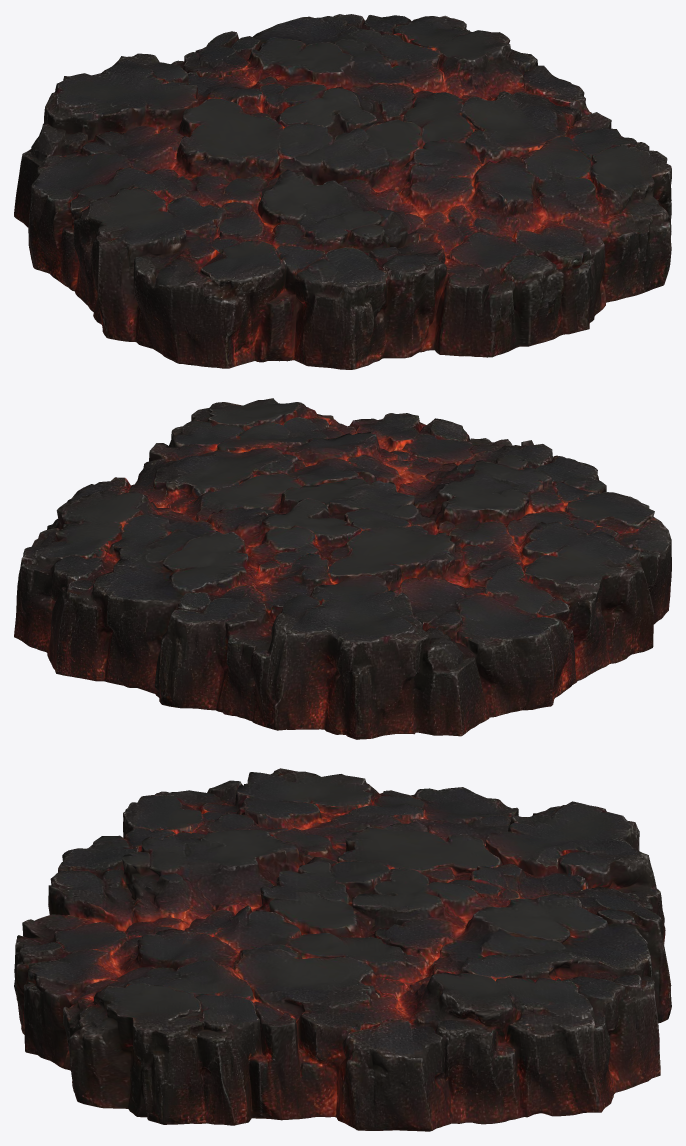
3 renders of one model, top to bottom at view 1: azimuth 30°, elevation 25°; view 2: azimuth 150°, elevation 25°; view 3: azimuth 270°, elevation 25°, orthographic. The views are drawn at different scales.
Visible parts, largest first — view 1: tripo_node_d1d0f881-13c9-458d-b8db-6bbf1888dd26; view 2: tripo_node_d1d0f881-13c9-458d-b8db-6bbf1888dd26; view 3: tripo_node_d1d0f881-13c9-458d-b8db-6bbf1888dd26.
Part boxes in pixels (<box>): tripo_node_d1d0f881-13c9-458d-b8db-6bbf1888dd26: <box>14,14,671,369</box>; tripo_node_d1d0f881-13c9-458d-b8db-6bbf1888dd26: <box>14,398,671,739</box>; tripo_node_d1d0f881-13c9-458d-b8db-6bbf1888dd26: <box>14,768,671,1131</box>.
Bounding box in the file's own units: 1 × 0.2021 × 0.9954.
1 material, 1 textured.
